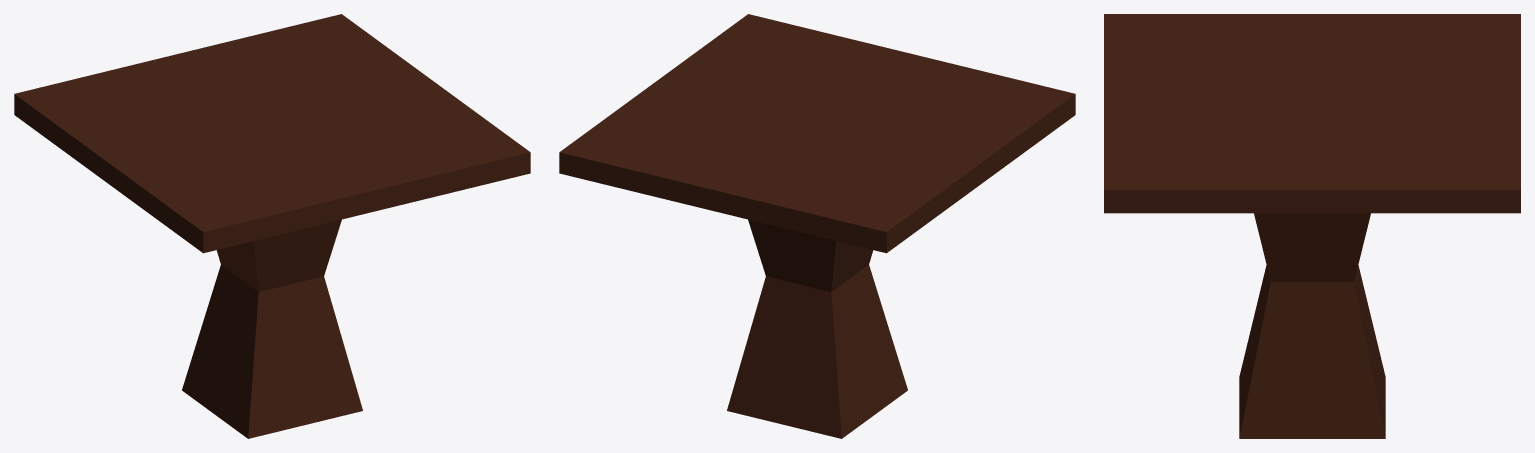
Rendered from table.fbx.
3 views of the same model, side by side, from view 1: azimuth 30°, elevation 25°; view 2: azimuth 150°, elevation 25°; view 3: azimuth 270°, elevation 25° (orthographic). The views are drawn at different scales.
Parts seen in each view (by area): view 1: table; view 2: table; view 3: table.
Boxes of the visible parts, x1,y1,x2,y2 form: table: (14, 14, 530, 438); table: (559, 14, 1075, 438); table: (1104, 14, 1520, 438).
Bounding box in the file's own units: 58.66 × 47.52 × 58.66.
